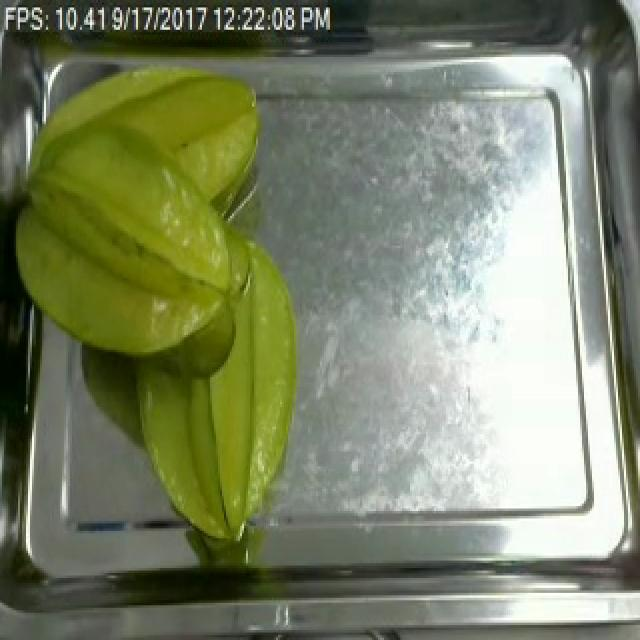fruit: (2, 47, 266, 375), (114, 225, 308, 560)
